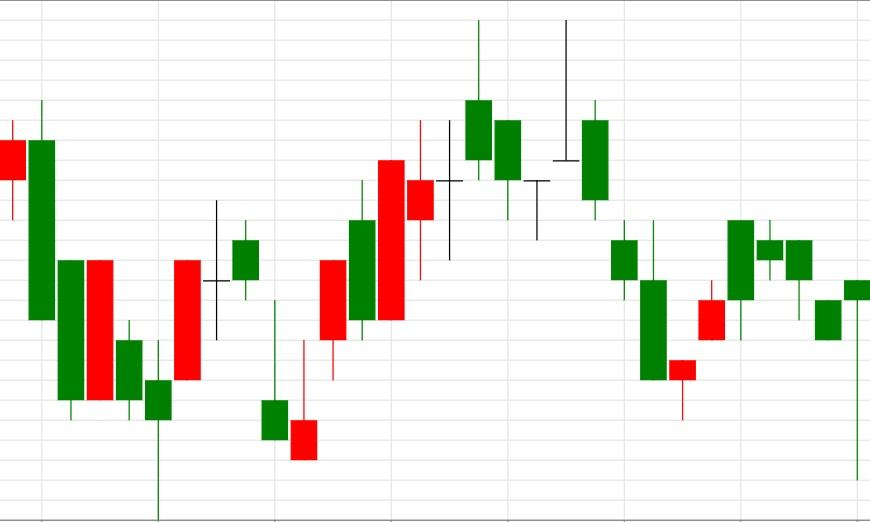hammer_rise: (552, 19, 697, 421)
inverse_hammer_rise: (202, 199, 318, 461)
